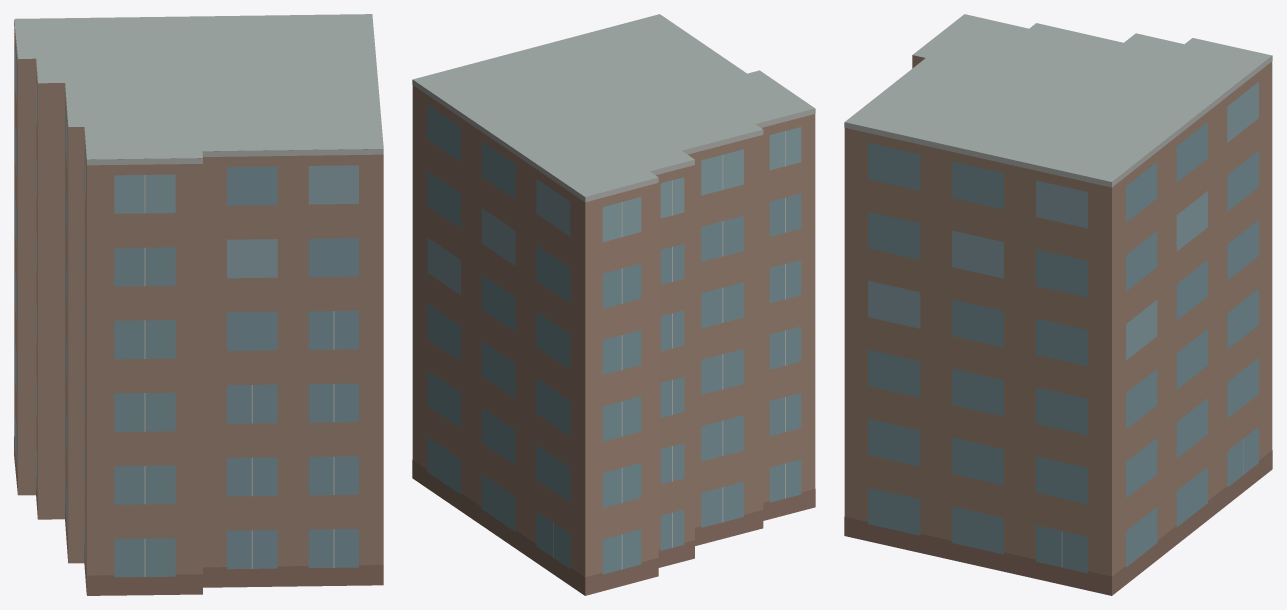
Rendered from survey-upis-32759275.glb.
3 views of the same model, side by side, from view 1: azimuth 30°, elevation 25°; view 2: azimuth 150°, elevation 25°; view 3: azimuth 270°, elevation 25° (orthographic). The views are drawn at different scales.
Visible parts, largest first — view 1: survey-upis-32759275.tmp; view 2: survey-upis-32759275.tmp; view 3: survey-upis-32759275.tmp.
Part boxes in pixels (<box>): survey-upis-32759275.tmp: <box>14,14,383,595</box>; survey-upis-32759275.tmp: <box>412,14,815,595</box>; survey-upis-32759275.tmp: <box>844,14,1272,595</box>.
Bounding box in the file's own units: 15.95 × 18.3 × 17.16.
